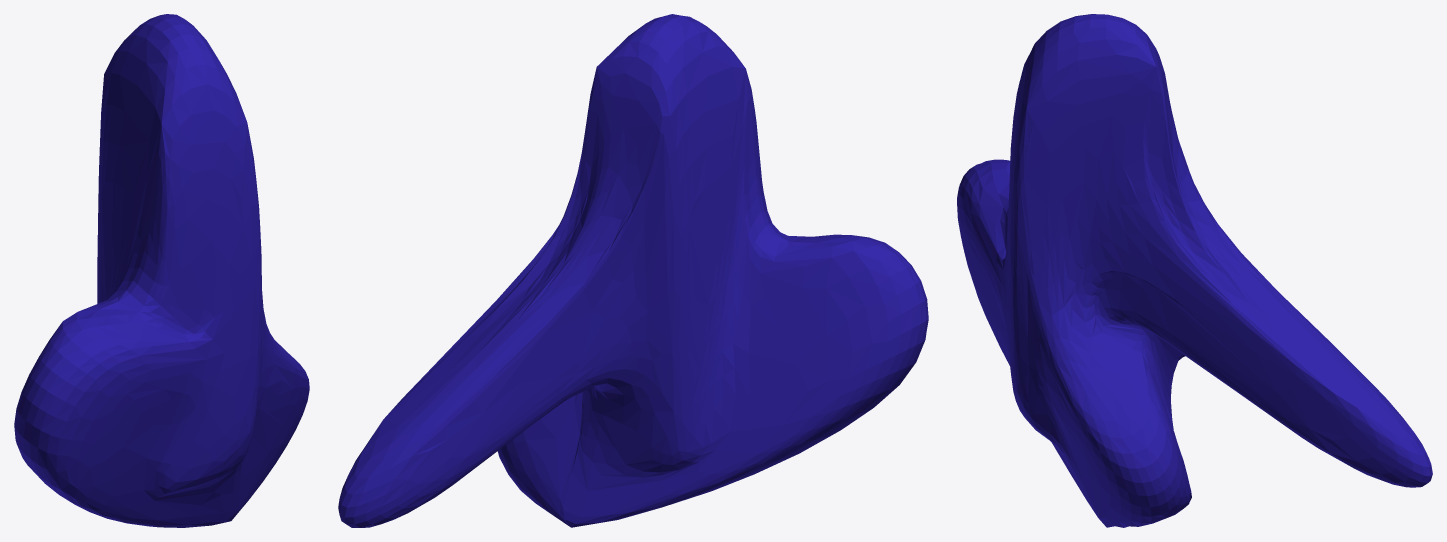
The picture shows the model from 3 angles, left to right: view 1: azimuth 30°, elevation 25°; view 2: azimuth 150°, elevation 25°; view 3: azimuth 270°, elevation 25°; orthographic projection. The views are drawn at different scales.
Parts seen in each view (by area): view 1: 719_Cube.2888; view 2: 719_Cube.2888; view 3: 719_Cube.2888.
Part boxes in pixels (x1,y1,x2,y2): 719_Cube.2888: (14,14,309,527); 719_Cube.2888: (338,14,928,527); 719_Cube.2888: (957,14,1432,527).
Bounding box in the file's own units: 10.23 × 13.59 × 12.14.
